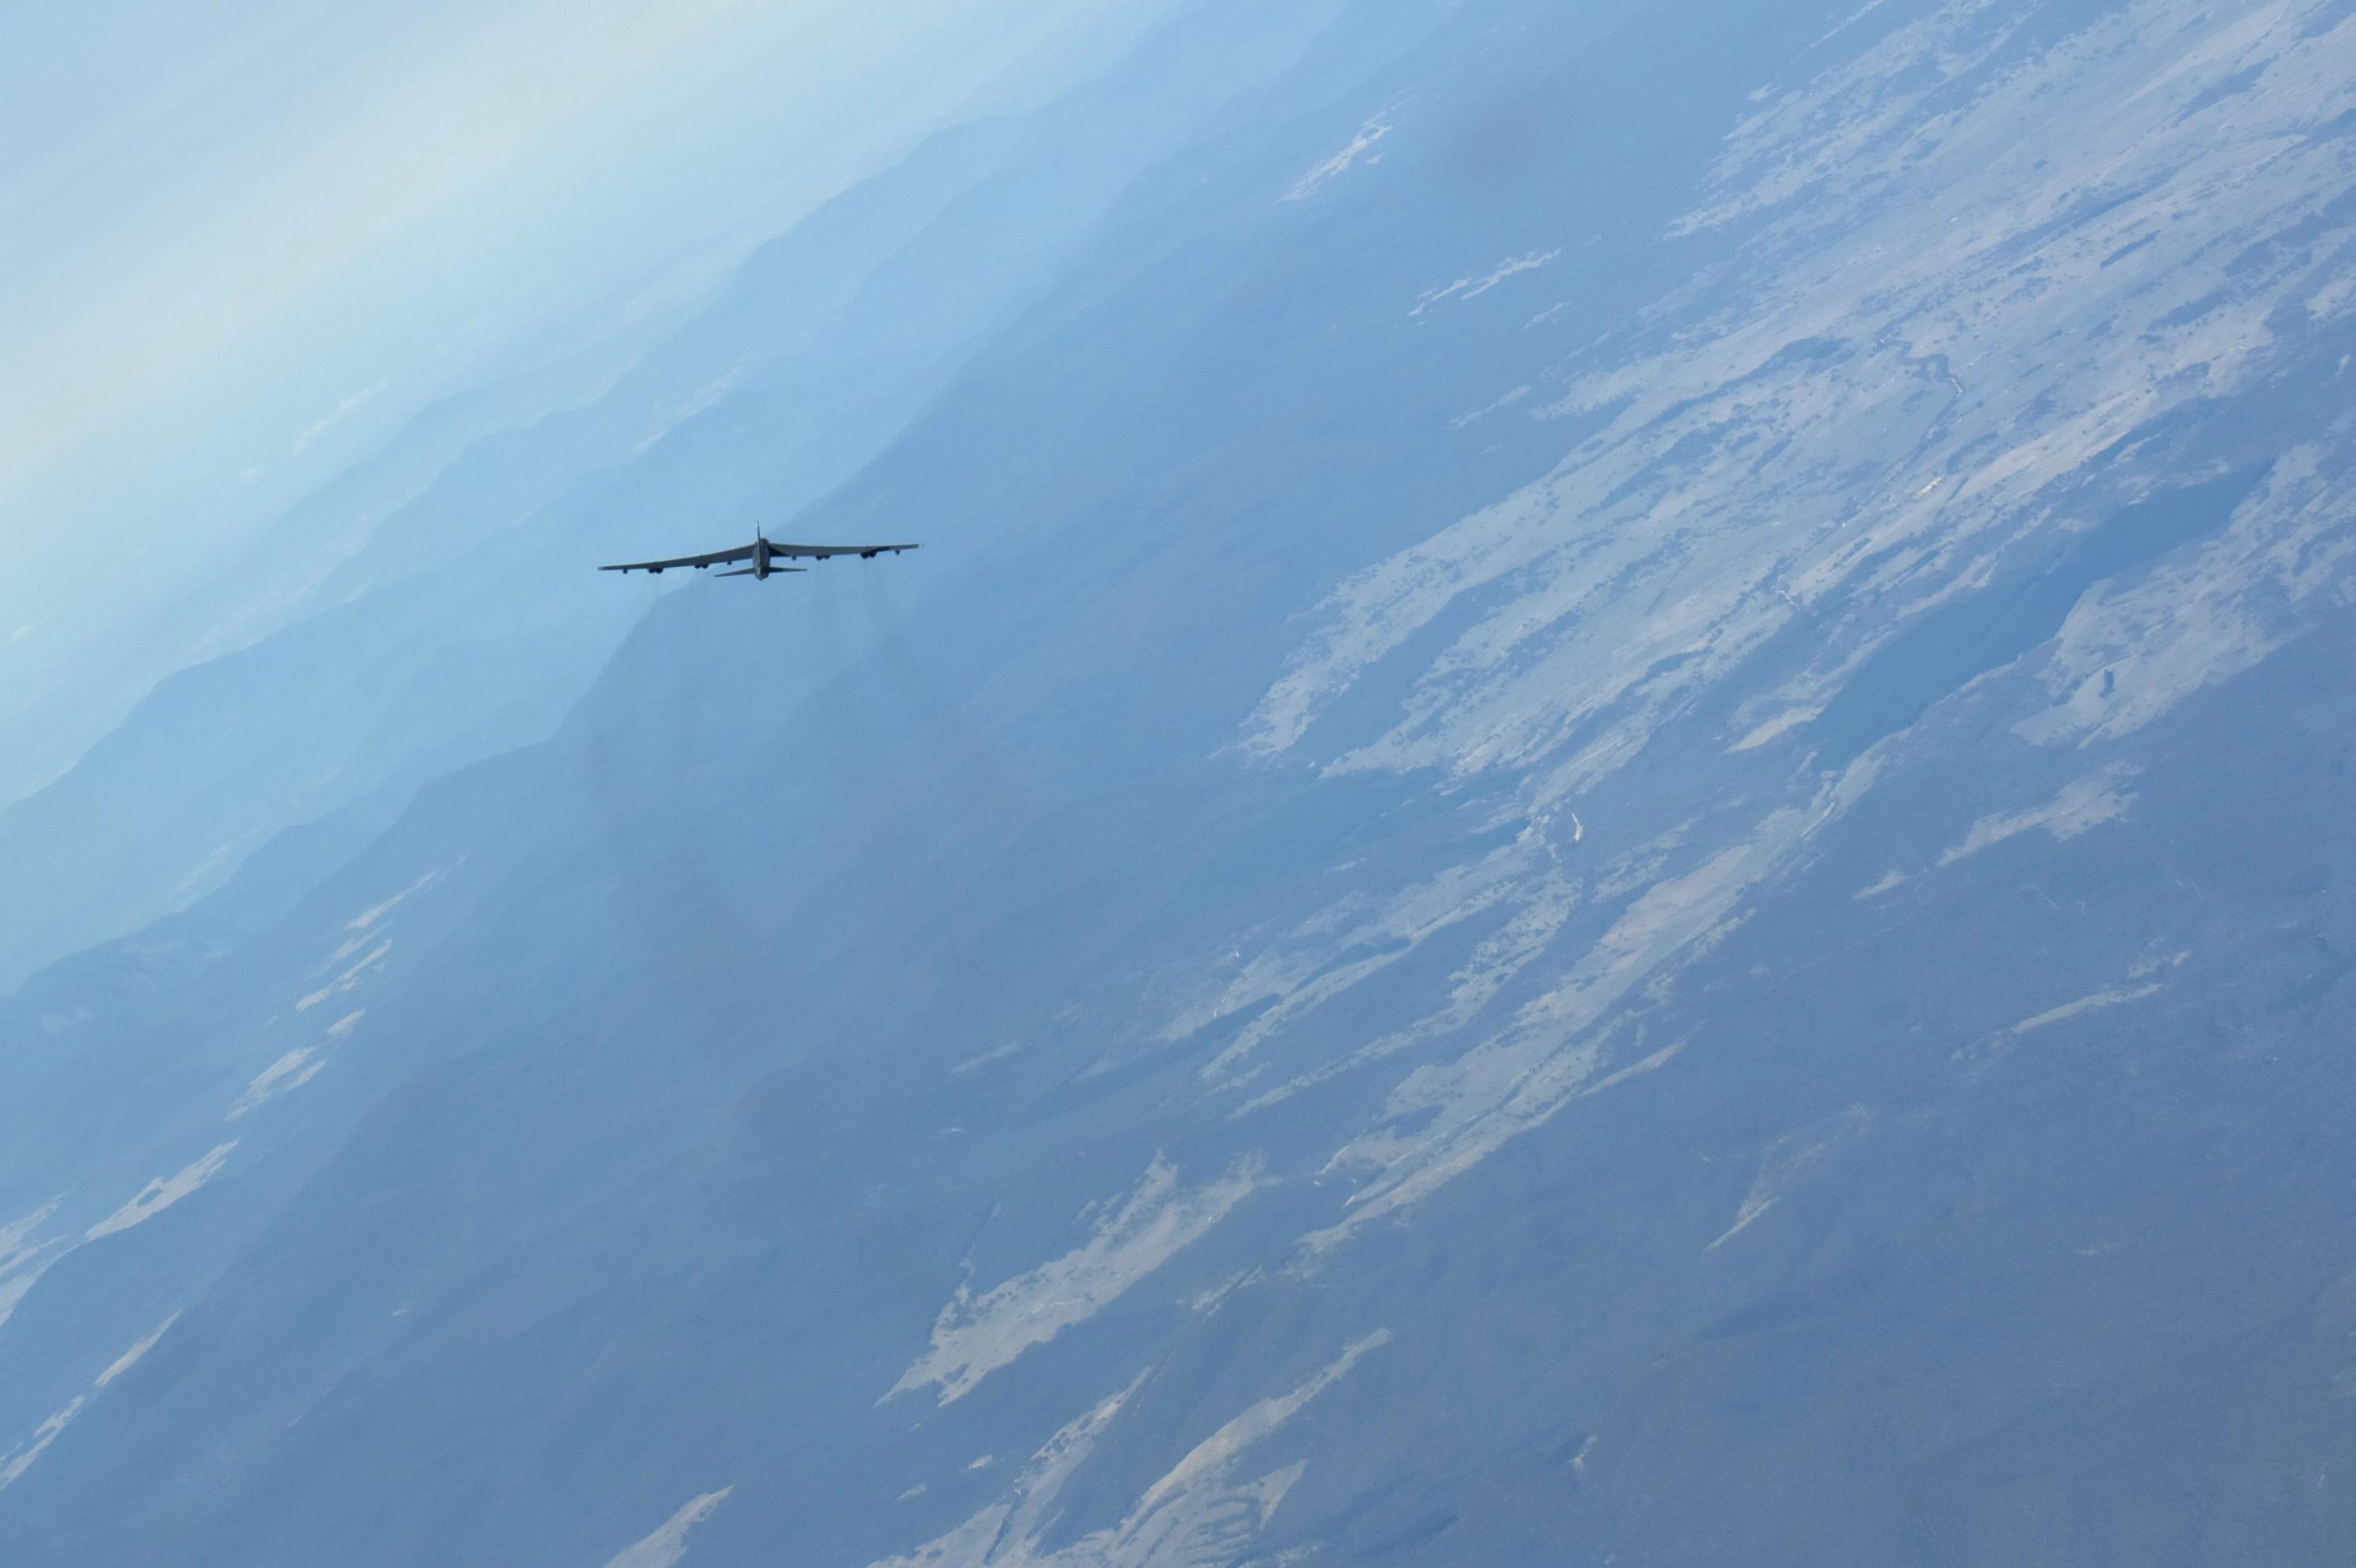B52: (597, 520, 924, 583)
